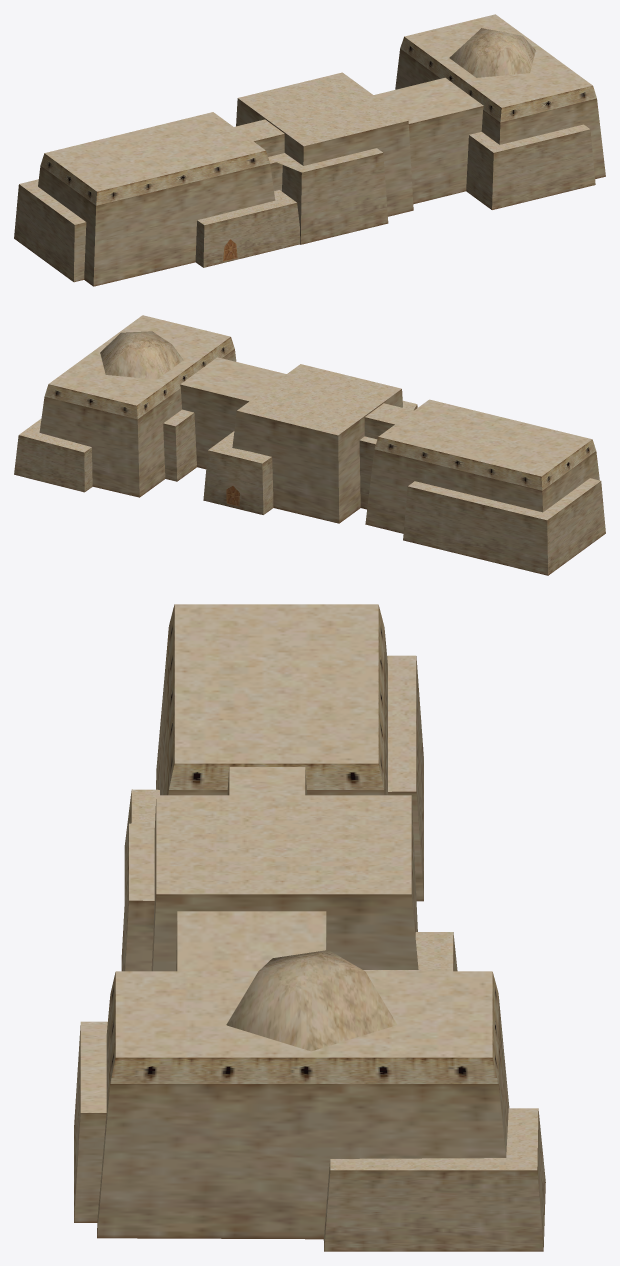
File: thm_tato_block_bldg_64x32_s02_l3.fbx
3 renders of one model, top to bottom at view 1: azimuth 30°, elevation 25°; view 2: azimuth 150°, elevation 25°; view 3: azimuth 270°, elevation 25°, orthographic. The views are drawn at different scales.
Parts seen in each view (by area): view 1: mesh_node; view 2: mesh_node; view 3: mesh_node.
Part boxes in pixels (box(x1,y1,x2,y2)): mesh_node: box(14, 14, 605, 286); mesh_node: box(14, 315, 605, 575); mesh_node: box(74, 604, 545, 1251).
Bounding box in the file's own units: 77.79 × 16.81 × 31.51.
